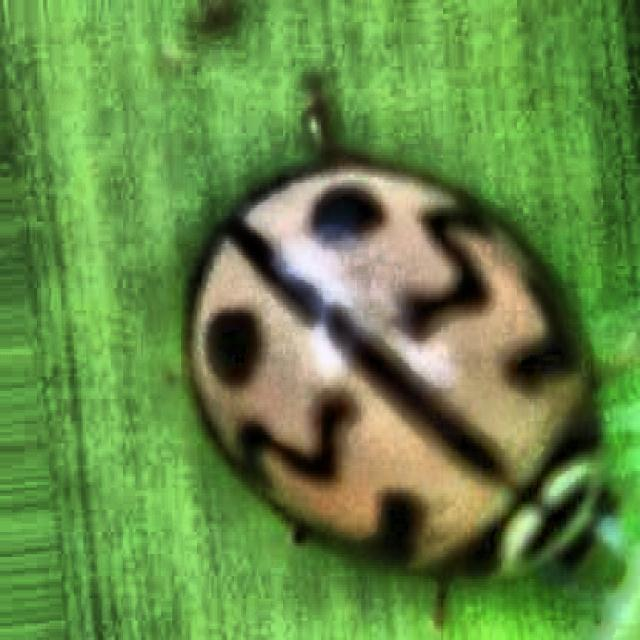Asian-Lady-beetle: (167, 82, 632, 640)
